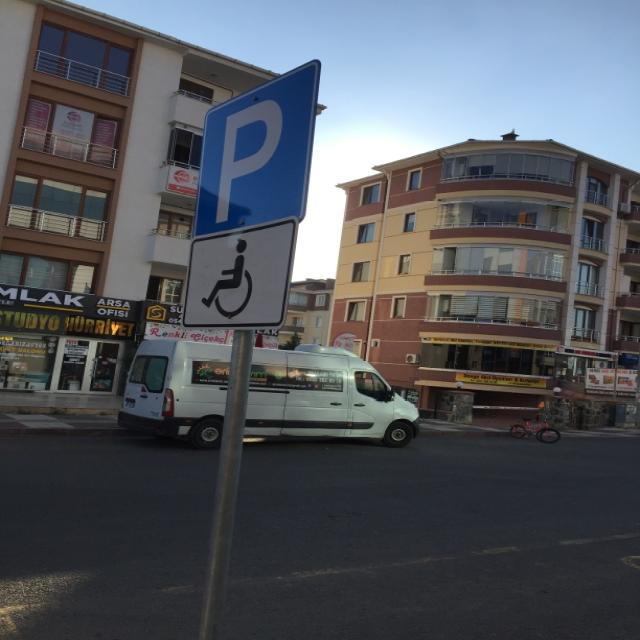park: (190, 58, 308, 226)
